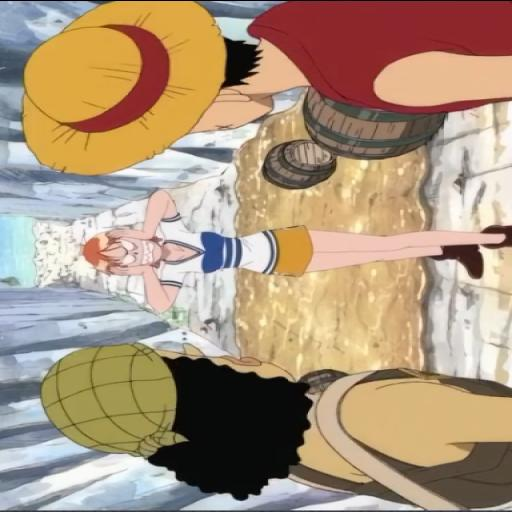Luffy: (0, 0, 512, 178)
Nami: (62, 188, 512, 302)
Usopp: (21, 338, 511, 512)
